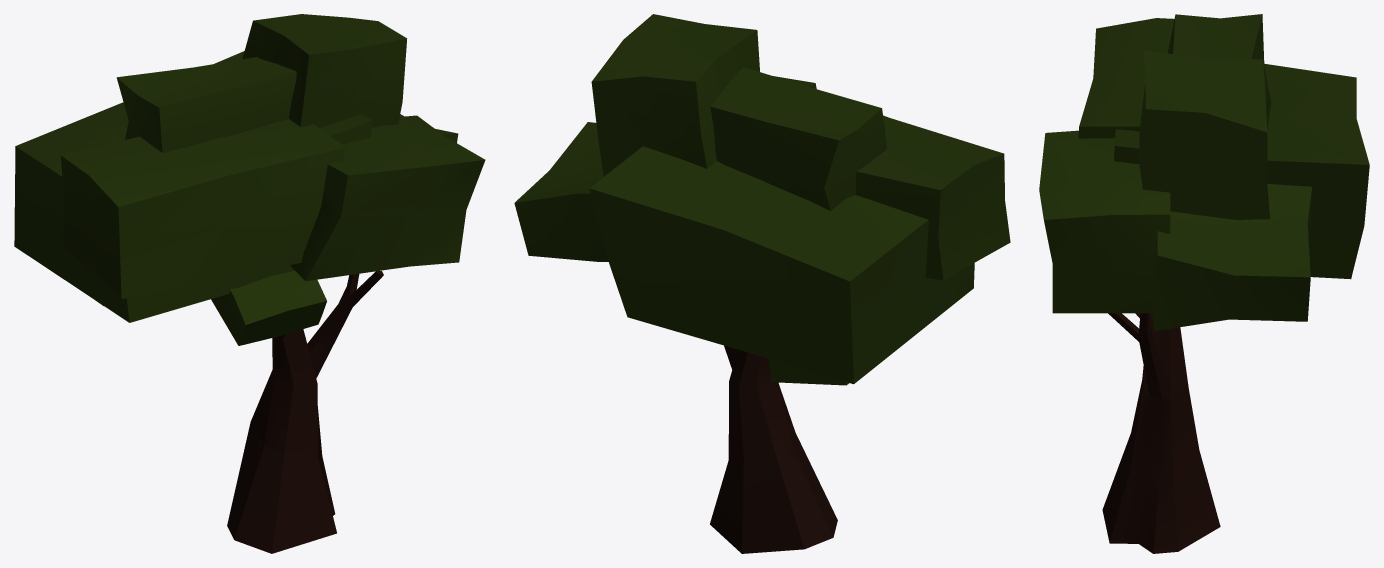
The model's file is three_big.fbx.
3 renders of one model, left to right at view 1: azimuth 30°, elevation 25°; view 2: azimuth 150°, elevation 25°; view 3: azimuth 270°, elevation 25°, orthographic. The views are drawn at different scales.
Parts seen in each view (by area): view 1: three_big; view 2: three_big; view 3: three_big.
Part boxes in pixels (x1,y1,x2,y2): three_big: (14,14,485,553); three_big: (514,14,1010,553); three_big: (1039,14,1369,553).
Size of the model in its own units: 893 by 1082 by 664.
